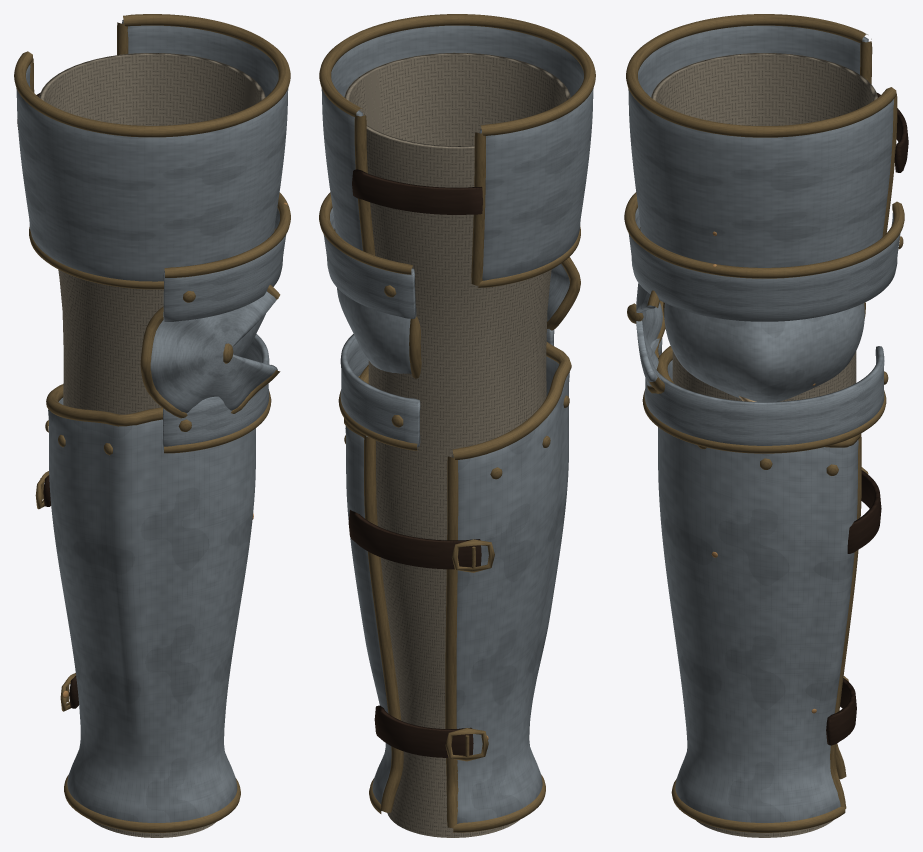
3 renders of one model, left to right at view 1: azimuth 30°, elevation 25°; view 2: azimuth 150°, elevation 25°; view 3: azimuth 270°, elevation 25°, orthographic.
Parts seen in each view (by area): view 1: hammered plate, quilted linen lining, aged alloy edge; view 2: hammered plate, quilted linen lining, aged alloy edge, oiled strap leather; view 3: hammered plate, aged alloy edge, quilted linen lining, oiled strap leather.
Part boxes in pixels (x1,y1,x2,y2): hammered plate: (16, 20, 288, 822); quilted linen lining: (39, 53, 265, 837); aged alloy edge: (14, 14, 290, 832); hammered plate: (321, 25, 593, 823); quilted linen lining: (344, 52, 570, 837); aged alloy edge: (319, 14, 595, 832); oiled strap leather: (348, 169, 482, 757); hammered plate: (628, 25, 900, 822); aged alloy edge: (624, 14, 904, 832); quilted linen lining: (651, 53, 877, 837); oiled strap leather: (826, 92, 908, 745).
Size of the model in its own units: 0.1509 by 0.4439 by 0.1548.
Materials: 6 (4 with a texture image).
